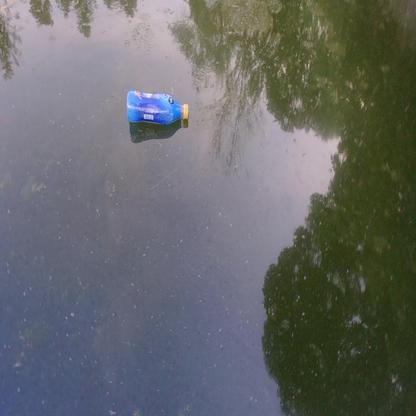plastic bottle: (126, 89, 189, 125)
